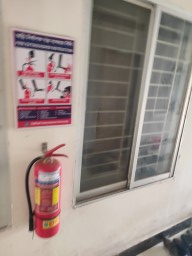fire_extinguisher: (107, 164, 179, 215)
